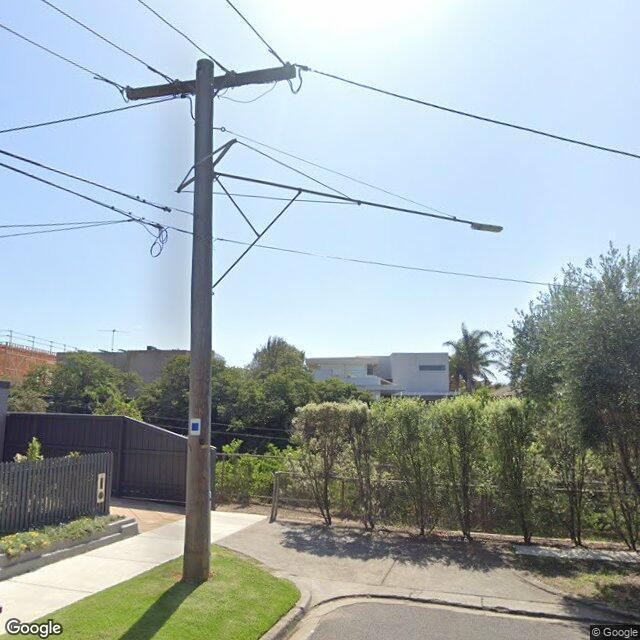crossarm: (126, 62, 296, 100)
streetlight: (211, 171, 503, 232)
timber-pole: (182, 60, 214, 583)
